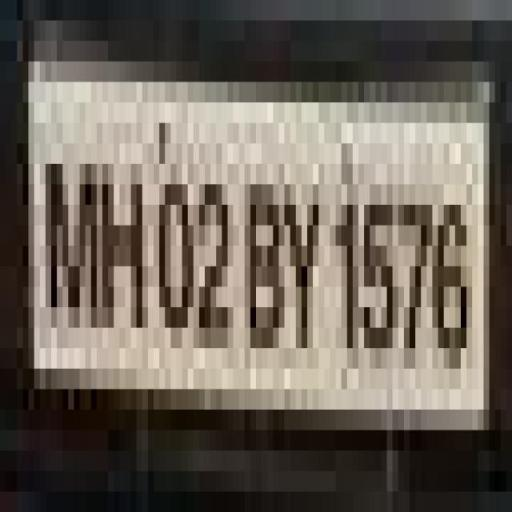number plate: (0, 20, 490, 451)
